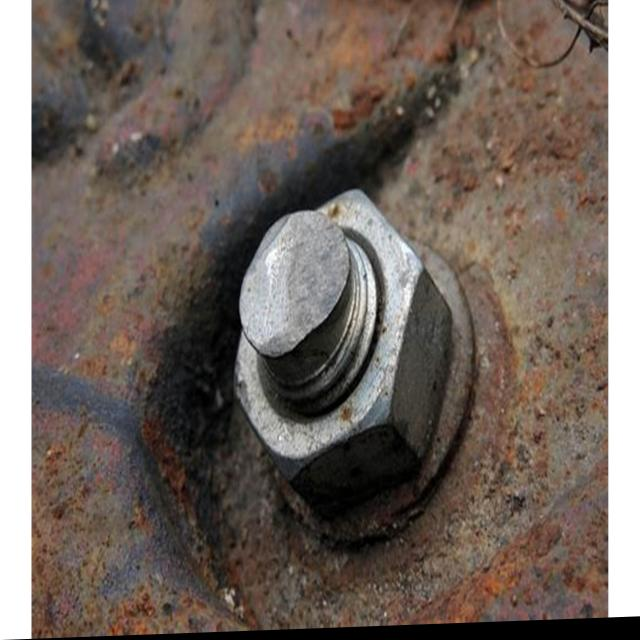Regular bolt: (238, 187, 452, 500)
